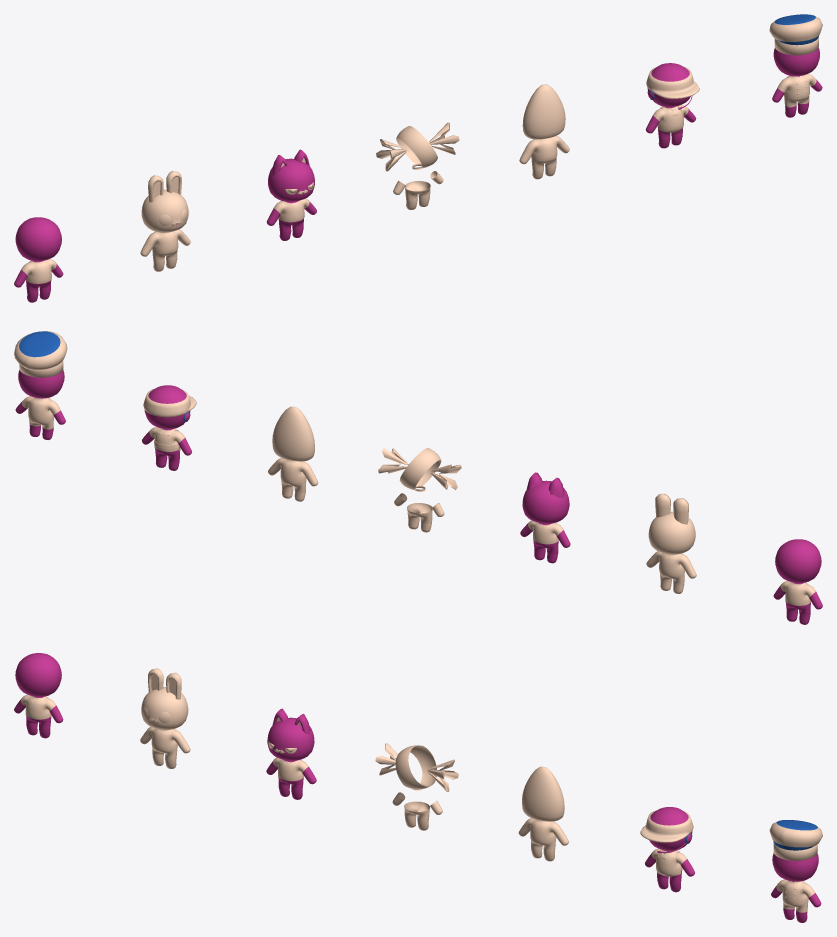
File: Worker_skin_icon.fbx
The picture shows the model from 3 angles, top to bottom: view 1: azimuth 30°, elevation 25°; view 2: azimuth 150°, elevation 25°; view 3: azimuth 330°, elevation 25°; orthographic projection.
Parts seen in each view (by area): view 1: Worker_skin_icon; view 2: Worker_skin_icon; view 3: Worker_skin_icon.
Part boxes in pixels (bbox=[...]): Worker_skin_icon: bbox=[14, 14, 822, 302]; Worker_skin_icon: bbox=[14, 331, 822, 624]; Worker_skin_icon: bbox=[14, 653, 822, 922].
Bounding box in the file's own units: 31.95 × 3.76 × 2.11.
